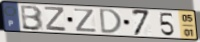5: (158, 12, 176, 37)
7: (132, 8, 152, 37)
B: (20, 4, 45, 32)
D: (99, 8, 123, 35)
Z: (44, 5, 68, 33), (73, 8, 99, 33)
